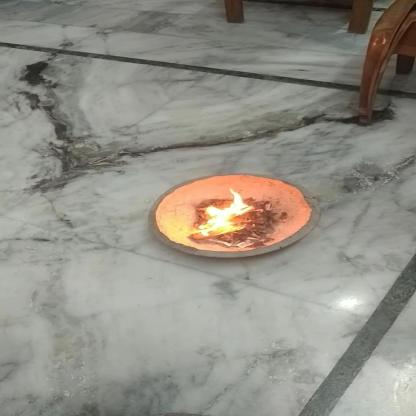fire: (188, 185, 262, 239)
